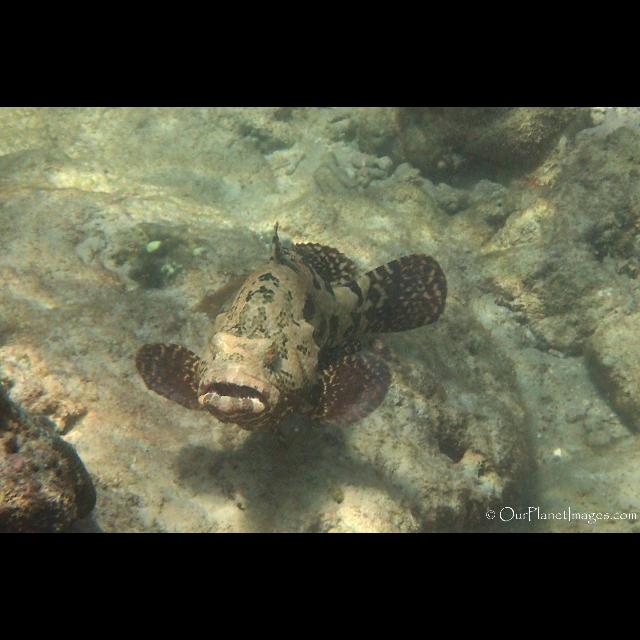Groupers: (133, 223, 449, 437)
